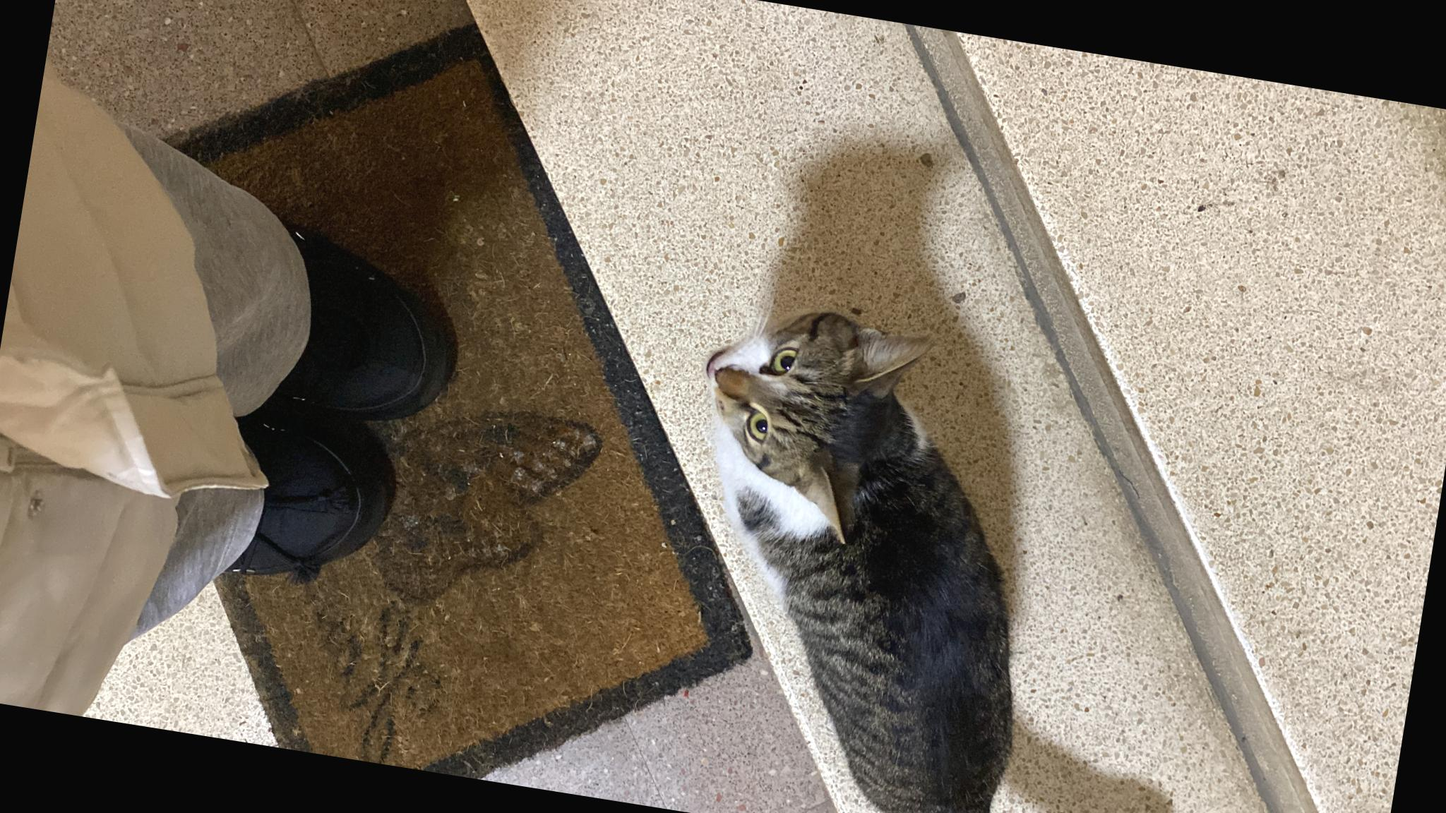macka: (872, 392, 1445, 813)
